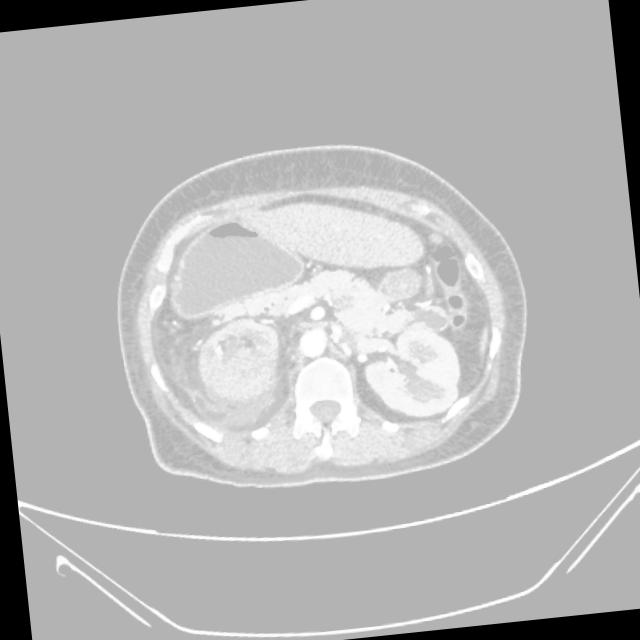TUMOR: (29, 194, 579, 414)
